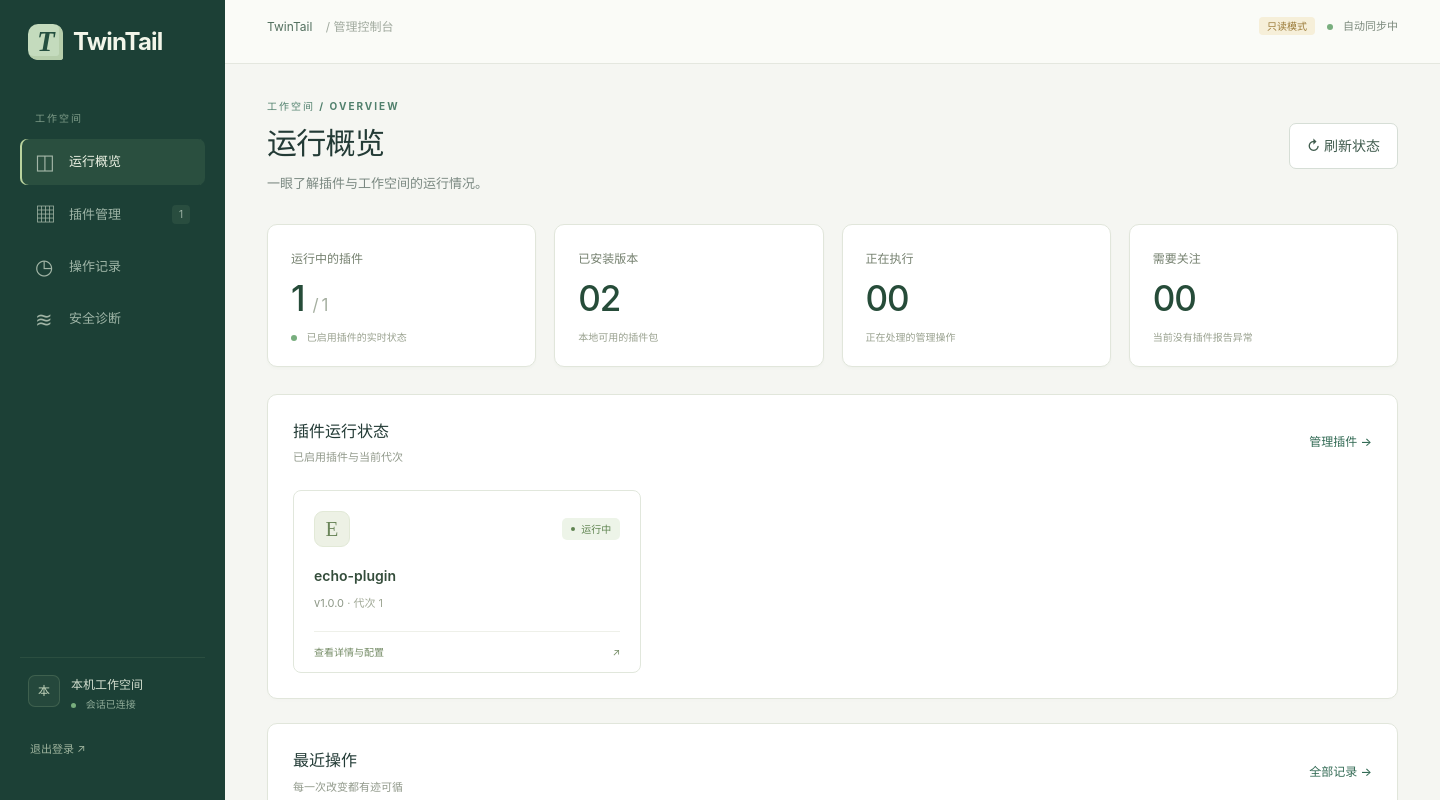
it: management interactions › shows readonly permissions and disables every mutation while leaving validation available
The width and height of the screenshot is (1440, 800).
Click the button "E 运行中 echo-plugin v1.0.0 · 代次 1 查看详情与配置 ↗".
click(332, 529)  # box [293,490,641,673]
(page scrolled)
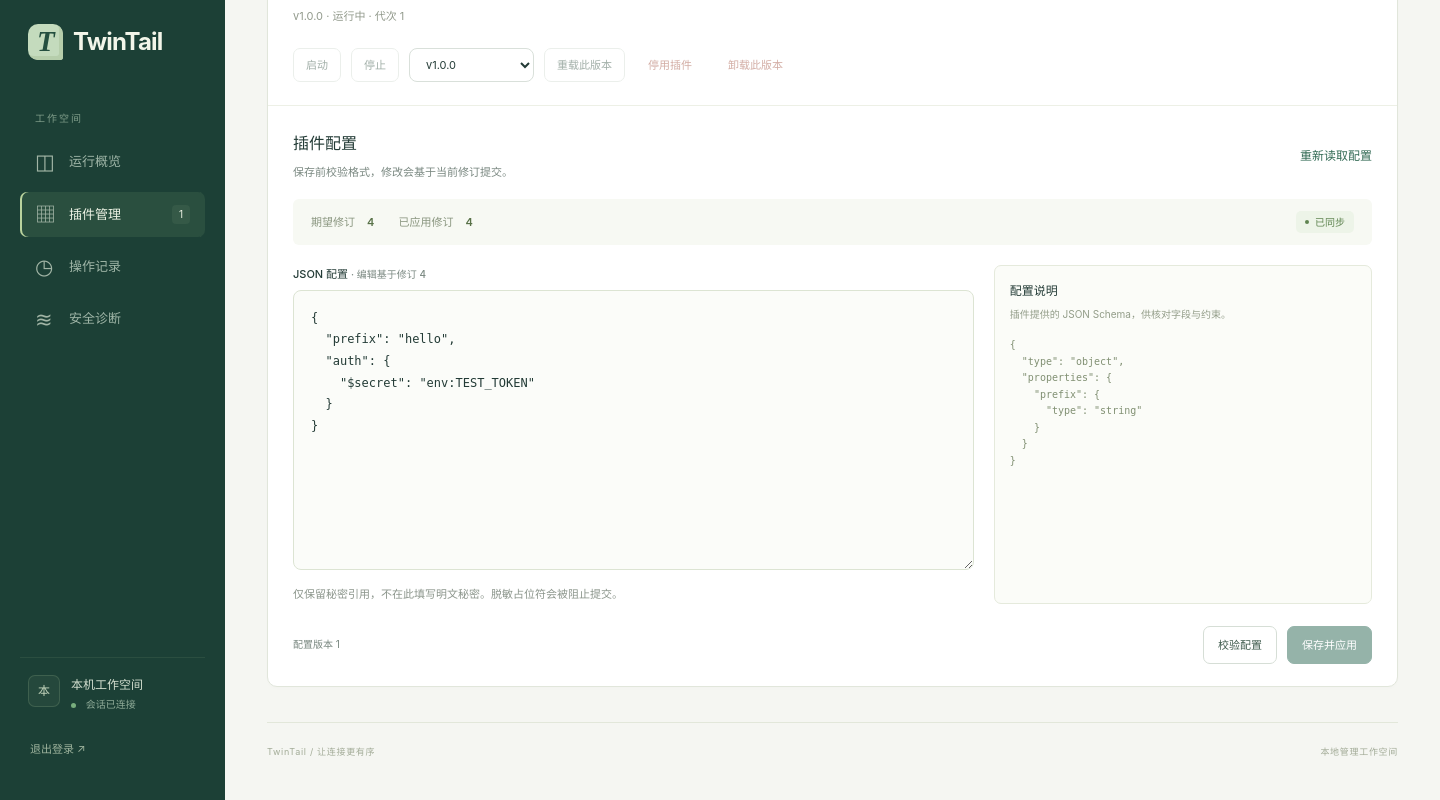
Check: the button "启动" is disabled, box [293,48,341,82]
Check: the button "停止" is disabled, box [351,48,399,82]
Check: the button "重载此版本" is disabled, box [544,48,625,82]
